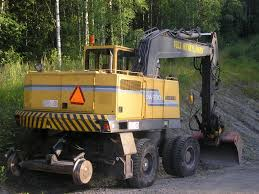excavator: (4, 25, 239, 190)
